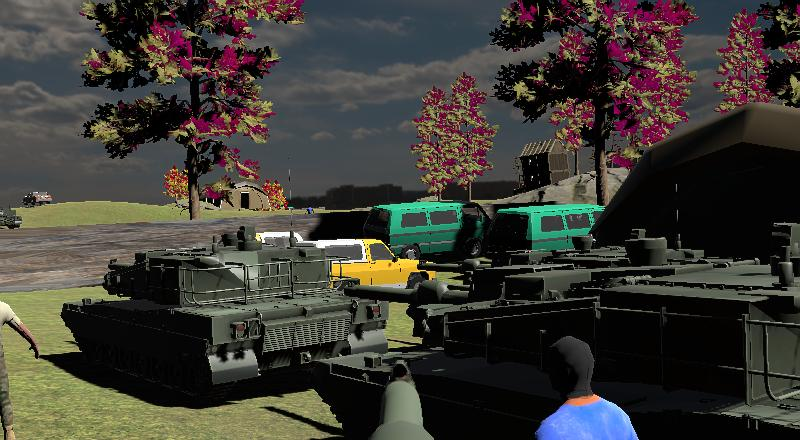Human: (506, 336, 670, 440), (0, 257, 43, 440)
Tank: (767, 213, 800, 286), (0, 202, 24, 231)
car: (360, 201, 492, 263), (484, 203, 612, 261), (300, 236, 423, 296)
